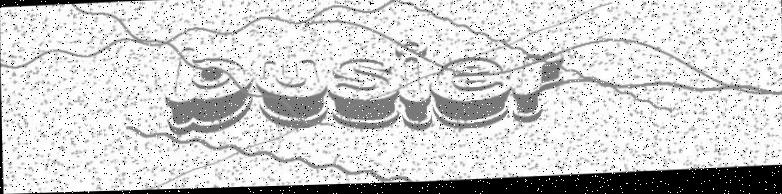b: (165, 45, 253, 135)
e: (430, 58, 511, 132)
i: (397, 44, 431, 134)
r: (511, 56, 563, 126)
s: (327, 60, 398, 132)
u: (255, 60, 327, 133)
